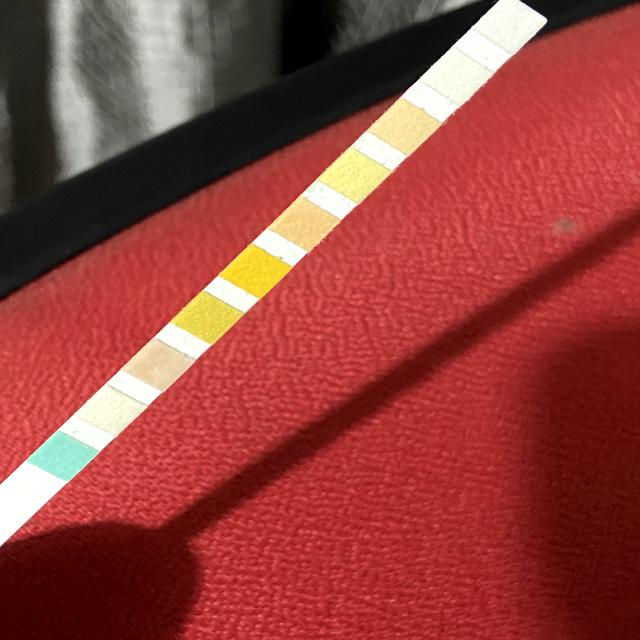Bilirubin: (90, 399, 130, 424)
Blood: (237, 259, 276, 285)
Glucose: (44, 443, 82, 470)
Ketone: (138, 352, 179, 378)
Leukocytes: (491, 10, 531, 38)
Nitrite: (437, 63, 477, 90)
Protein: (334, 161, 375, 189)
SpGravity: (188, 304, 226, 332)
Urobilinogen: (385, 114, 426, 140)
pH: (286, 209, 325, 237)
